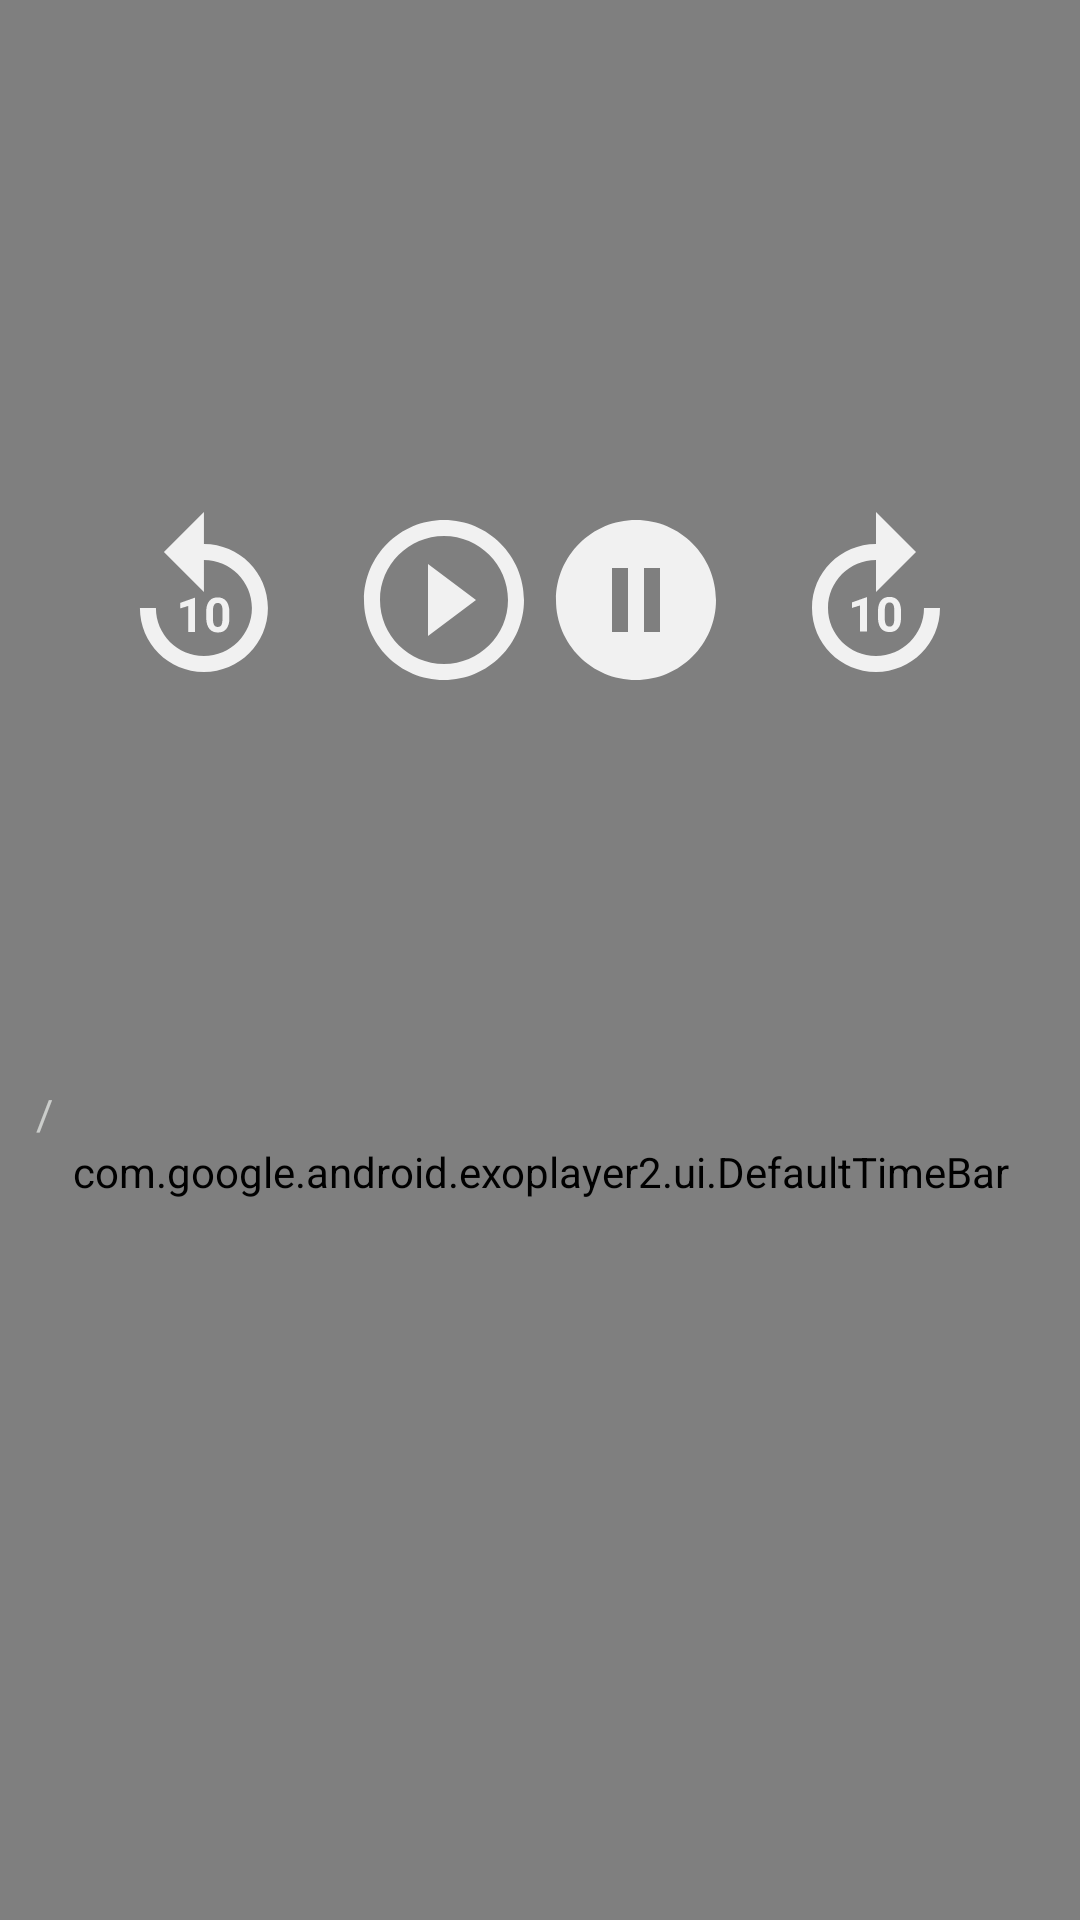

Icon click points for this 1080x1920 phone screenshot, format (x,y):
forword: (876,592)
pause: (636,600)
play: (444,600)
rew: (204,592)
